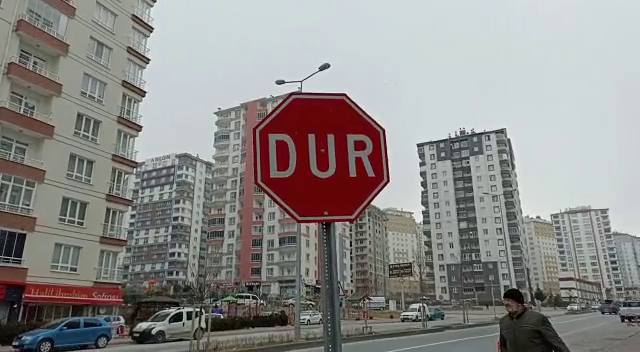stop: (251, 91, 392, 225)
